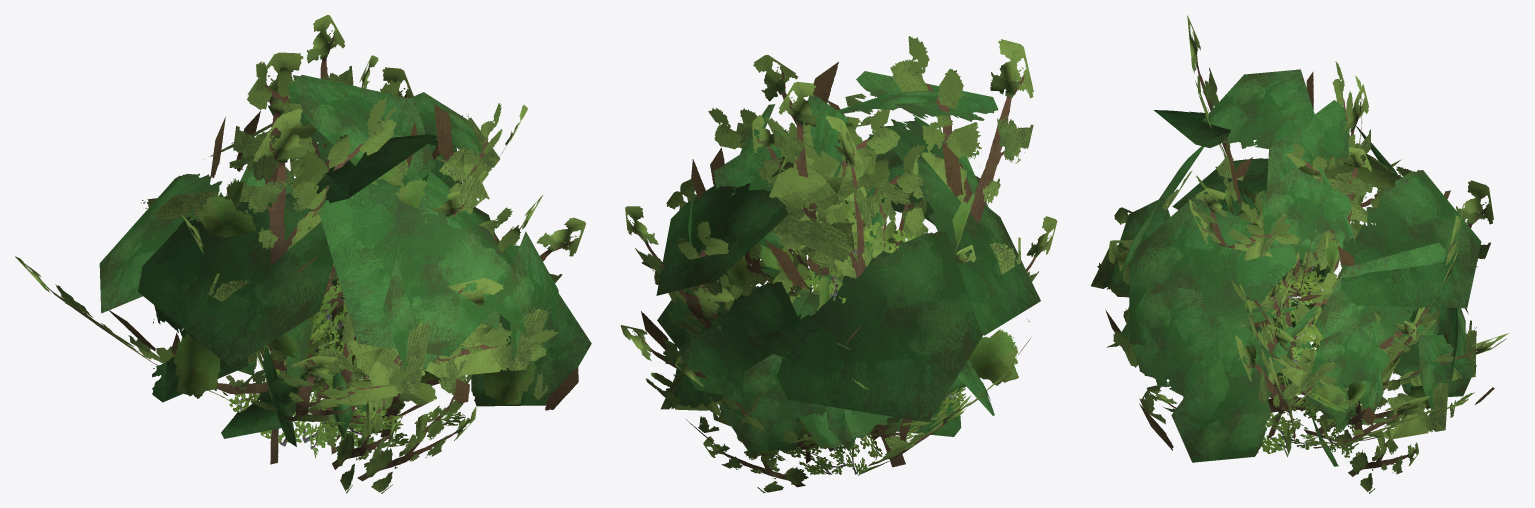
Rendered from Arbre_003_Feuillage.fbx.
3 views of the same model, side by side, from view 1: azimuth 30°, elevation 25°; view 2: azimuth 150°, elevation 25°; view 3: azimuth 270°, elevation 25° (orthographic). The views are drawn at different scales.
Parts seen in each view (by area): view 1: Arbre_003_Feuillage; view 2: Arbre_003_Feuillage; view 3: Arbre_003_Feuillage.
Boxes of the visible parts, x1,y1,x2,y2 form: Arbre_003_Feuillage: [15, 15, 591, 493]; Arbre_003_Feuillage: [621, 36, 1057, 493]; Arbre_003_Feuillage: [1091, 15, 1508, 493].
Bounding box in the file's own units: 5.08 × 4.89 × 4.69.
